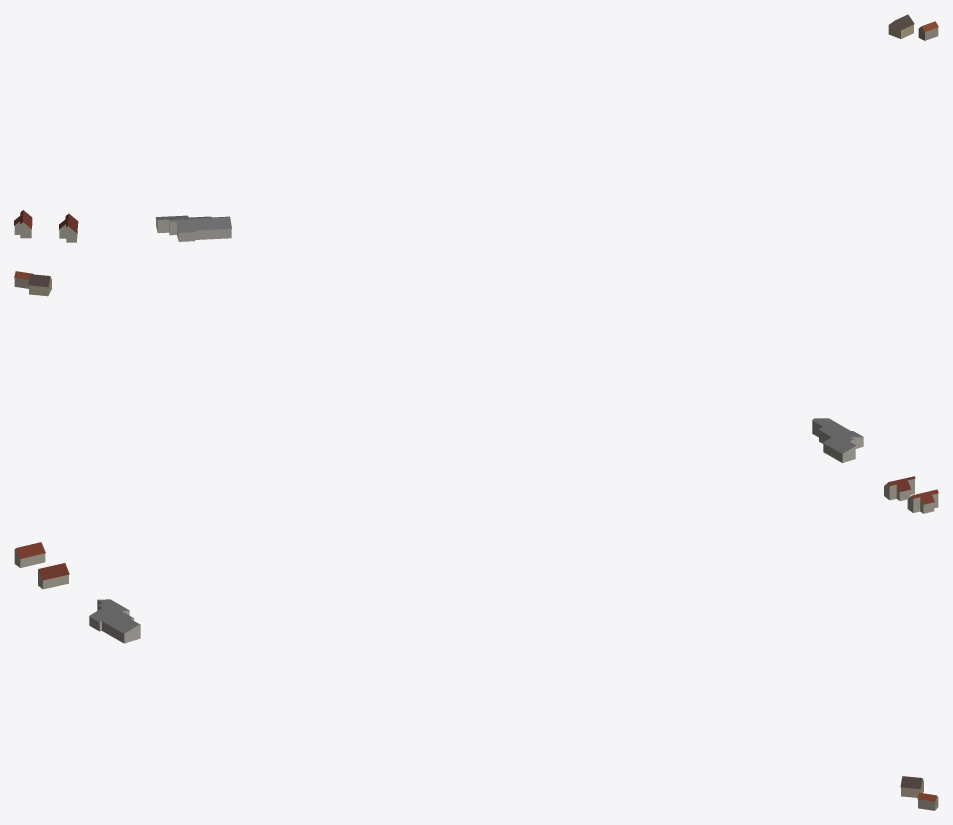
The picture shows the model from 3 angles, top to bottom: view 1: azimuth 30°, elevation 25°; view 2: azimuth 150°, elevation 25°; view 3: azimuth 330°, elevation 25°; orthographic projection. The views are drawn at different scales.
Parts seen in each view (by area): view 1: buildings; view 2: buildings; view 3: buildings.
Part boxes in pixels (left/top/right/bottom): buildings: left=14, top=14, right=938, bottom=242; buildings: left=14, top=271, right=938, bottom=513; buildings: left=14, top=542, right=938, bottom=810.
Size of the model in its own units: 613 by 17.66 by 75.76.
